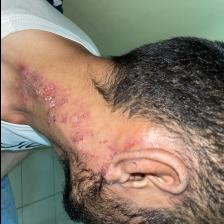DA: (17, 48, 91, 142)
